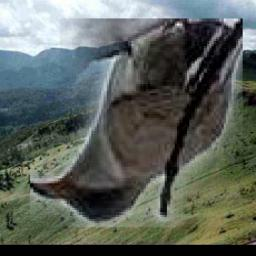Cuckoo: (31, 18, 244, 227)
